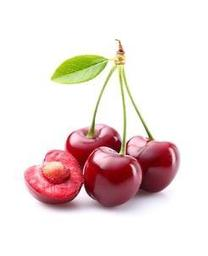cherry: (83, 146, 143, 209), (23, 149, 84, 206), (126, 135, 181, 194), (66, 123, 122, 175)
